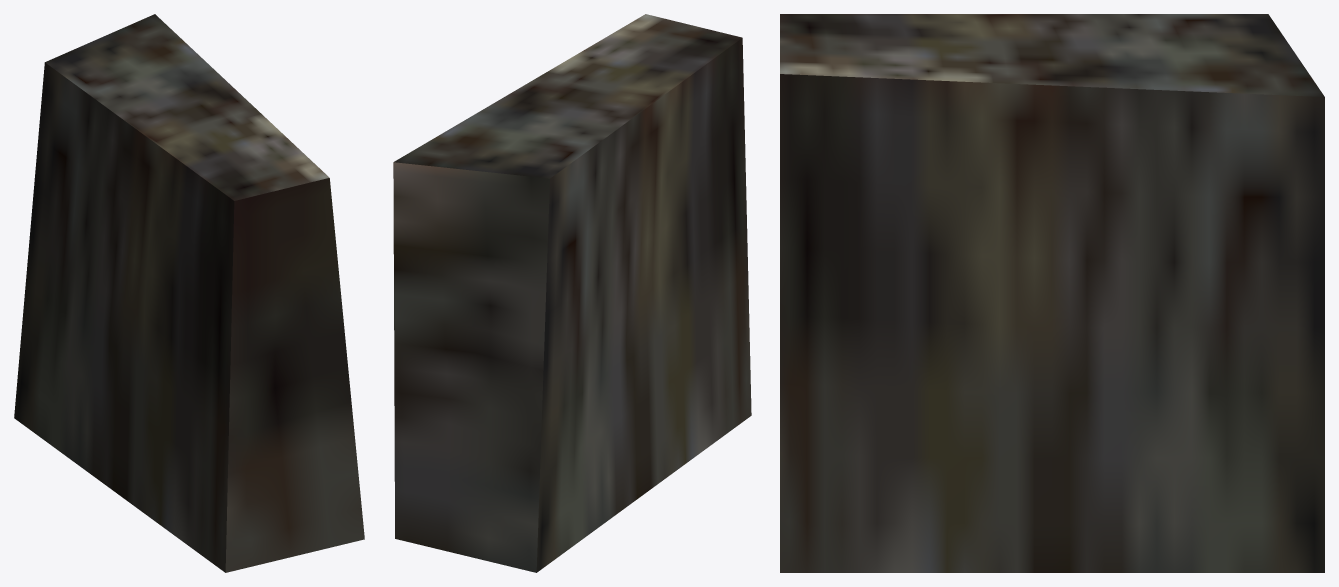
File: USA - Base Infrastructure - Power Plant - Damage State 21 - ABPWRPLANT_d21.glb
3 renders of one model, left to right at view 1: azimuth 30°, elevation 25°; view 2: azimuth 150°, elevation 25°; view 3: azimuth 270°, elevation 25°, orthographic. The views are drawn at different scales.
Visible parts, largest first — view 1: ABPWRPLANT_D21; view 2: ABPWRPLANT_D21; view 3: ABPWRPLANT_D21.
Boxes of the visible parts, bbox=[...] form: ABPWRPLANT_D21: bbox=[14, 14, 364, 572]; ABPWRPLANT_D21: bbox=[393, 14, 751, 572]; ABPWRPLANT_D21: bbox=[780, 14, 1324, 572].
Bounding box in the file's own units: 3.52 × 8.83 × 9.14.
1 material, 1 textured.
